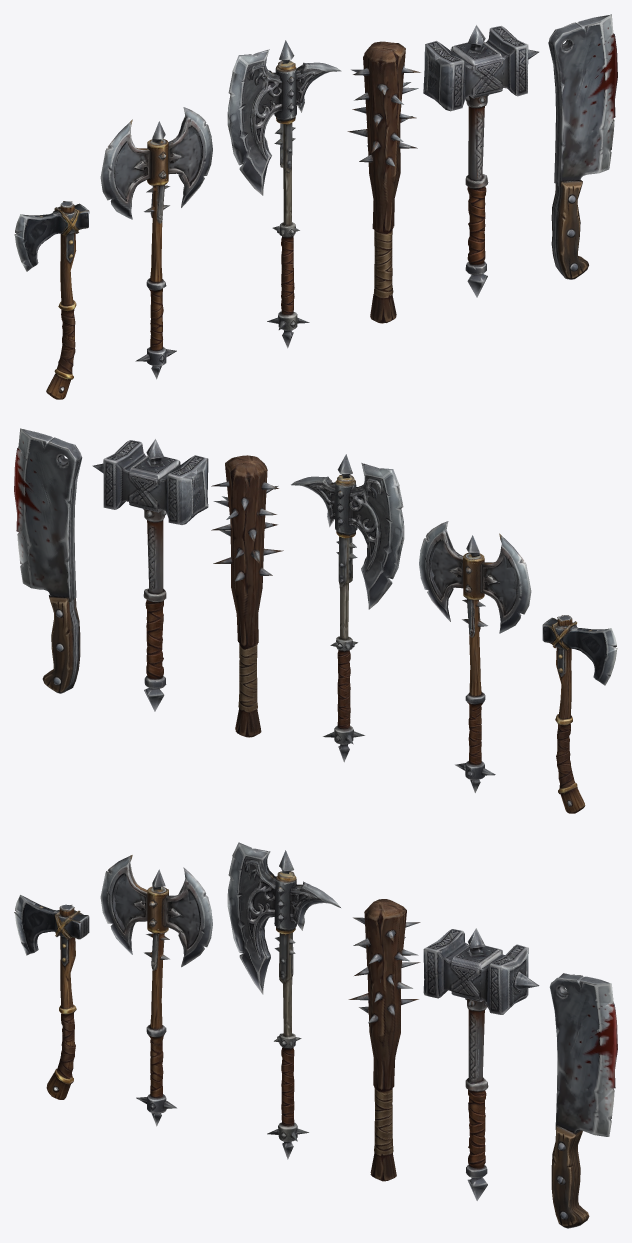
The model's file is sheet_axes.glb.
3 views of the same model, one above another, from view 1: azimuth 30°, elevation 25°; view 2: azimuth 150°, elevation 25°; view 3: azimuth 330°, elevation 25° (orthographic).
Size of the model in its own units: 0.9541 by 0.4673 by 0.103.
1 material, 1 textured.
